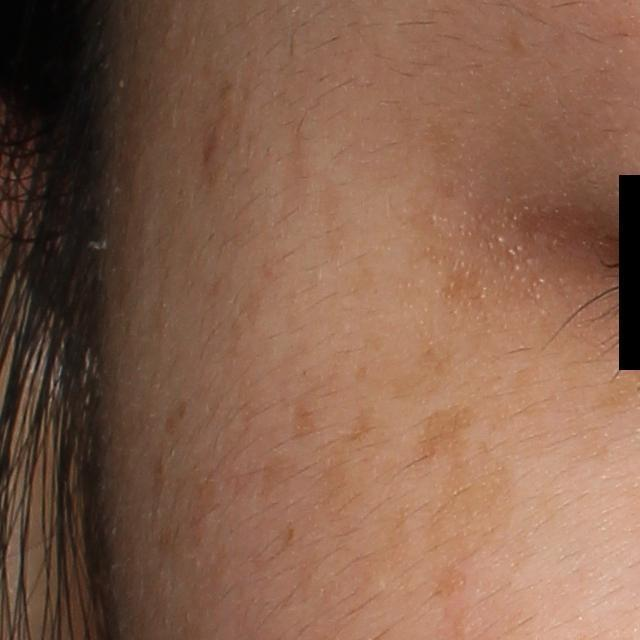melasma: (425, 441, 521, 569), (406, 402, 476, 477), (387, 345, 460, 410), (432, 261, 493, 309), (254, 456, 300, 503), (283, 397, 322, 444), (429, 561, 472, 600), (163, 398, 191, 435)
